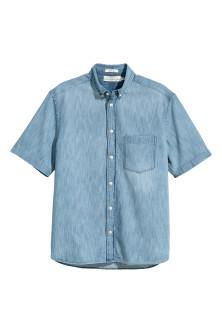teeshirt: (9, 59, 213, 273)
